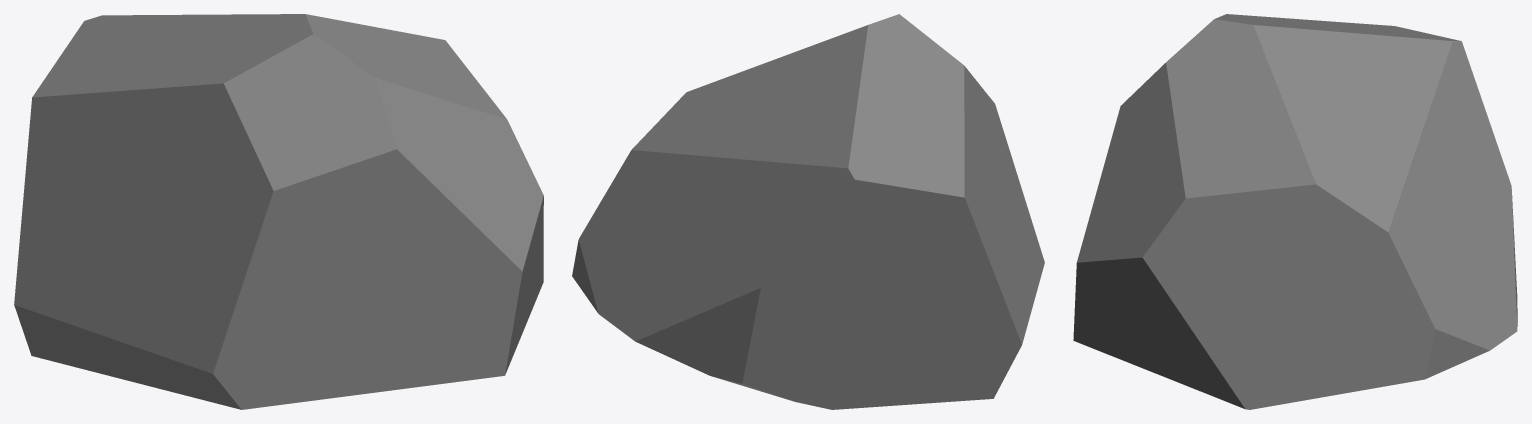
Rendered from Pedra3.fbx.
The picture shows the model from 3 angles, left to right: view 1: azimuth 30°, elevation 25°; view 2: azimuth 150°, elevation 25°; view 3: azimuth 270°, elevation 25°; orthographic projection. The views are drawn at different scales.
Visible parts, largest first — view 1: Sphere; view 2: Sphere; view 3: Sphere.
Boxes of the visible parts, x1=… form: Sphere: x1=14, y1=14, x2=543, y2=409; Sphere: x1=572, y1=14, x2=1044, y2=409; Sphere: x1=1073, y1=14, x2=1517, y2=409.
Bounding box in the file's own units: 259 × 176 × 235.
